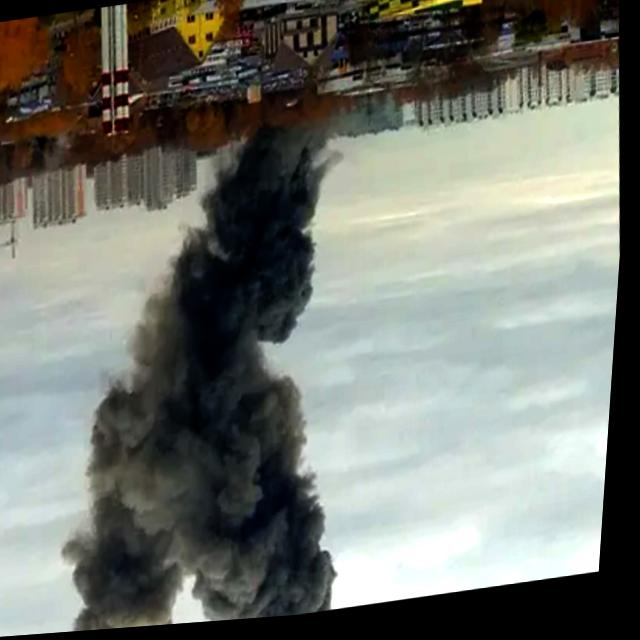no_helmet: (35, 120, 382, 636)
